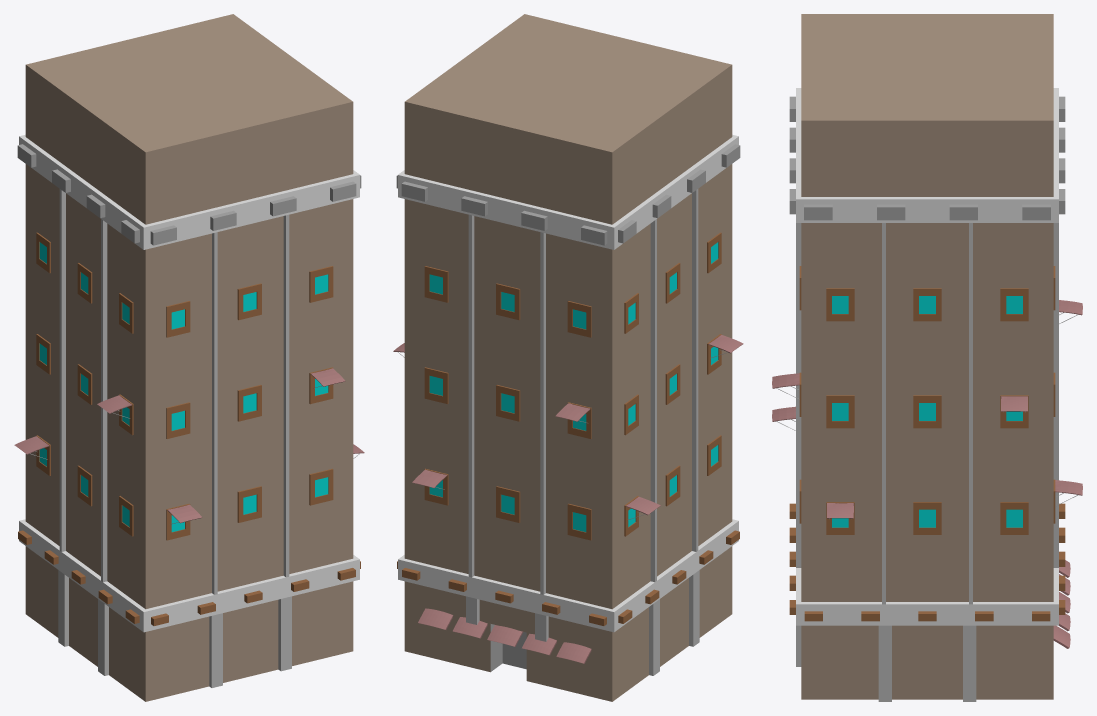
File: Med_01.fbx
3 views of the same model, side by side, from view 1: azimuth 30°, elevation 25°; view 2: azimuth 150°, elevation 25°; view 3: azimuth 270°, elevation 25° (orthographic). The views are drawn at different scales.
Visible parts, largest first — view 1: Med_01; view 2: Med_01; view 3: Med_01.
Boxes of the visible parts, x1,y1,x2,y2 form: Med_01: (14,14,364,701); Med_01: (393,14,743,701); Med_01: (772,14,1082,701).
Bounding box in the file's own units: 189 × 389 × 189.
